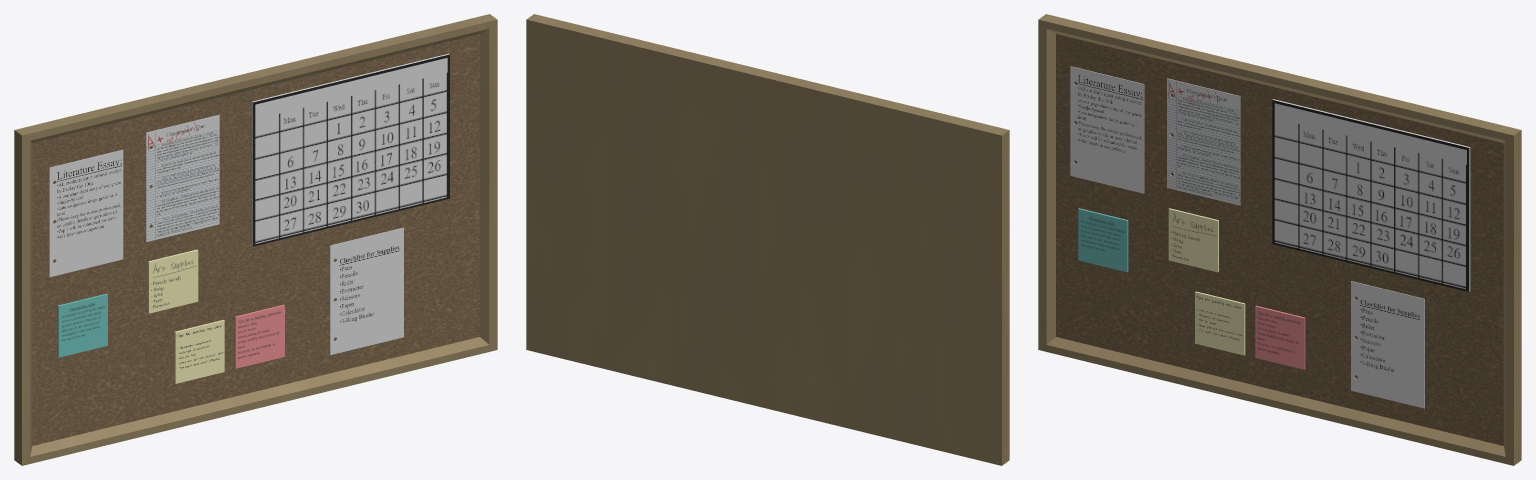
File: Bulletin Board Modified2.fbx
3 views of the same model, side by side, from view 1: azimuth 30°, elevation 25°; view 2: azimuth 150°, elevation 25°; view 3: azimuth 330°, elevation 25° (orthographic).
Visible parts, largest first — view 1: Corkboard, Calendar, Bulletin Board, Lit Essay Rules, Choogenham Essay, Supply checklist, StickyNote2, StickyNote1, StickyNote3, StickyNote4; view 2: Bulletin Board; view 3: Corkboard, Calendar, Bulletin Board, Lit Essay Rules, Choogenham Essay, Supply checklist, StickyNote1, StickyNote4, StickyNote3, StickyNote2.
Part boxes in pixels (left/top/right/bottom): Corkboard: left=32, top=34, right=479, bottom=445; Calendar: left=252, top=53, right=449, bottom=246; Bulletin Board: left=14, top=14, right=497, bottom=465; Lit Essay Rules: left=49, top=149, right=123, bottom=277; Choogenham Essay: left=146, top=114, right=219, bottom=242; Supply checklist: left=330, top=227, right=403, bottom=354; StickyNote2: left=148, top=249, right=198, bottom=313; StickyNote1: left=174, top=320, right=224, bottom=383; StickyNote3: left=234, top=304, right=284, bottom=368; StickyNote4: left=57, top=293, right=107, bottom=357; Bulletin Board: left=526, top=14, right=1009, bottom=465; Corkboard: left=1056, top=34, right=1503, bottom=445; Calendar: left=1272, top=99, right=1470, bottom=291; Bulletin Board: left=1038, top=14, right=1521, bottom=465; Lit Essay Rules: left=1070, top=66, right=1144, bottom=193; Choogenham Essay: left=1167, top=78, right=1240, bottom=205; Supply checklist: left=1351, top=281, right=1424, bottom=408; StickyNote1: left=1195, top=291, right=1245, bottom=355; StickyNote4: left=1078, top=208, right=1128, bottom=272; StickyNote3: left=1255, top=305, right=1305, bottom=369; StickyNote2: left=1168, top=208, right=1218, bottom=272.
Bounding box in the file's own units: 3.3 × 2.19 × 0.092.
Materials: 9 (9 with a texture image).
